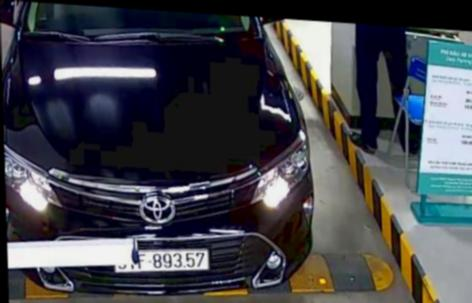License_Plate: (114, 247, 218, 278)
